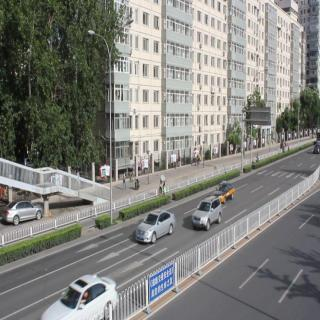Car: (45, 279, 118, 320), (6, 196, 43, 230), (198, 190, 222, 236), (139, 216, 176, 244), (208, 174, 236, 206)
